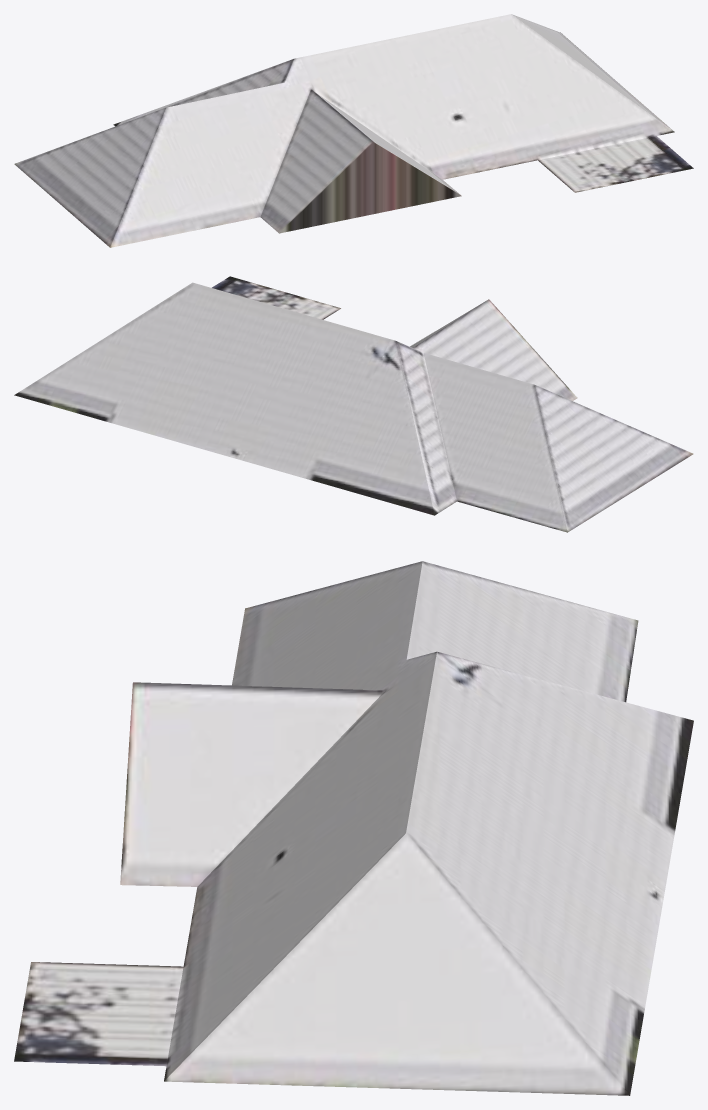
File: BK39_500_018031_0046_roof.obj
The picture shows the model from 3 angles, top to bottom: view 1: azimuth 30°, elevation 25°; view 2: azimuth 150°, elevation 25°; view 3: azimuth 270°, elevation 25°; orthographic projection. The views are drawn at different scales.
Visible parts, largest first — view 1: BK39_500_018031_0046_roof; view 2: BK39_500_018031_0046_roof; view 3: BK39_500_018031_0046_roof.
Boxes of the visible parts, x1,y1,x2,y2 form: BK39_500_018031_0046_roof: [14, 14, 693, 247]; BK39_500_018031_0046_roof: [14, 276, 693, 532]; BK39_500_018031_0046_roof: [14, 561, 693, 1095].
Bounding box in the file's own units: 445 × 70 × 262.
1 material, 1 textured.
